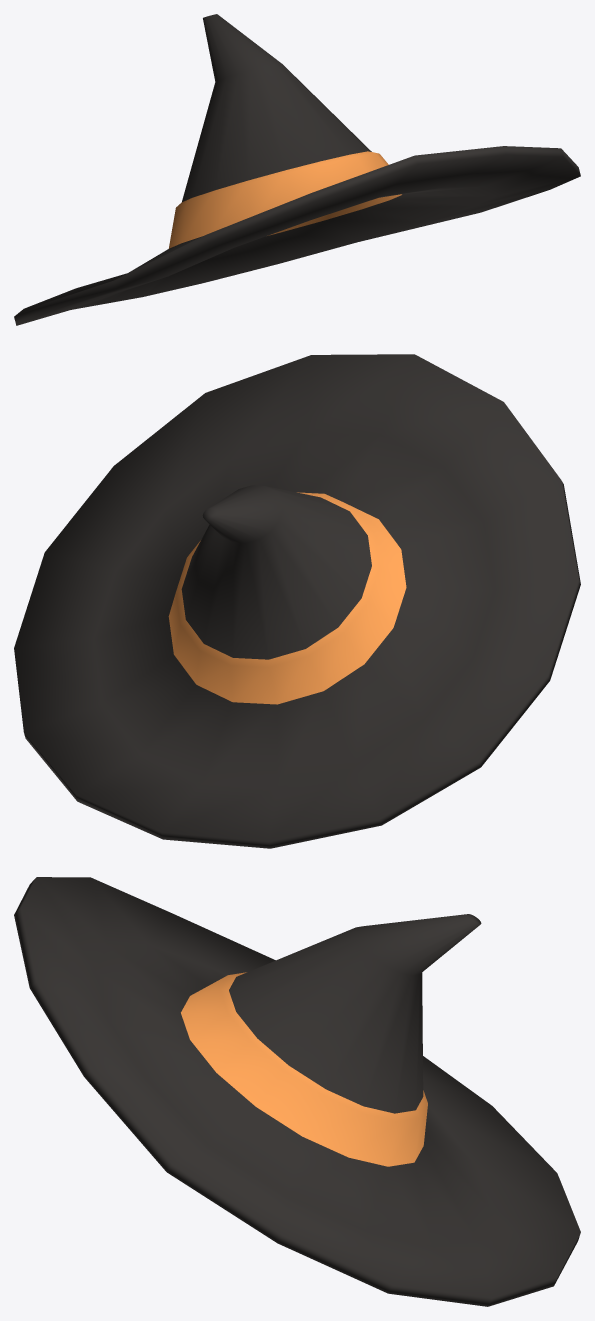
File: witchhat.fbx
The picture shows the model from 3 angles, top to bottom: view 1: azimuth 30°, elevation 25°; view 2: azimuth 150°, elevation 25°; view 3: azimuth 270°, elevation 25°; orthographic projection. The views are drawn at different scales.
Visible parts, largest first — view 1: witchhat; view 2: witchhat; view 3: witchhat.
Part boxes in pixels (left/top/right/bottom): witchhat: left=14, top=14, right=580, bottom=325; witchhat: left=14, top=354, right=580, bottom=848; witchhat: left=14, top=877, right=580, bottom=1306.
Bounding box in the file's own units: 79.28 × 45.33 × 69.89.
